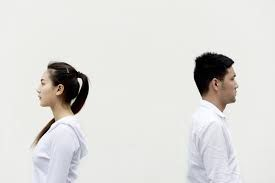no-mask: (189, 49, 246, 106), (33, 58, 87, 114)
